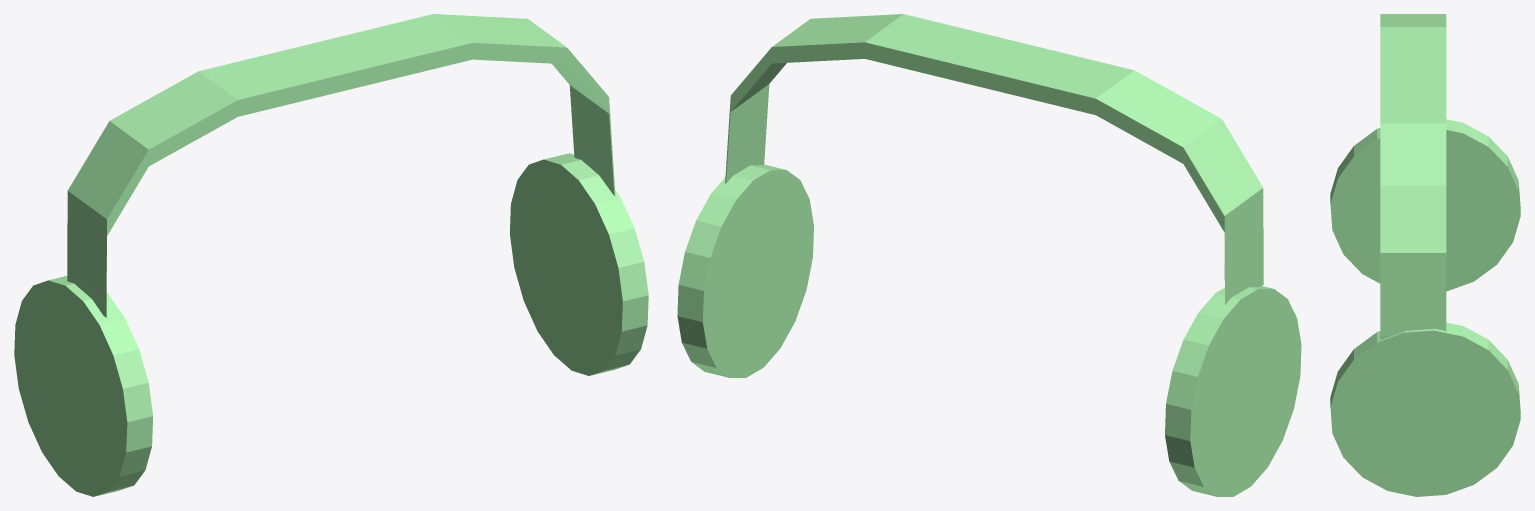
File: hat_1__Object_17.glb
3 renders of one model, left to right at view 1: azimuth 30°, elevation 25°; view 2: azimuth 150°, elevation 25°; view 3: azimuth 270°, elevation 25°, orthographic. The views are drawn at different scales.
Visible parts, largest first — view 1: geometry_0; view 2: geometry_0; view 3: geometry_0.
Part boxes in pixels (x1,y1,x2,y2): geometry_0: (14, 14, 648, 496); geometry_0: (677, 14, 1301, 496); geometry_0: (1330, 14, 1520, 496).
Size of the model in its own units: 1.25 by 0.8521 by 0.4681.
